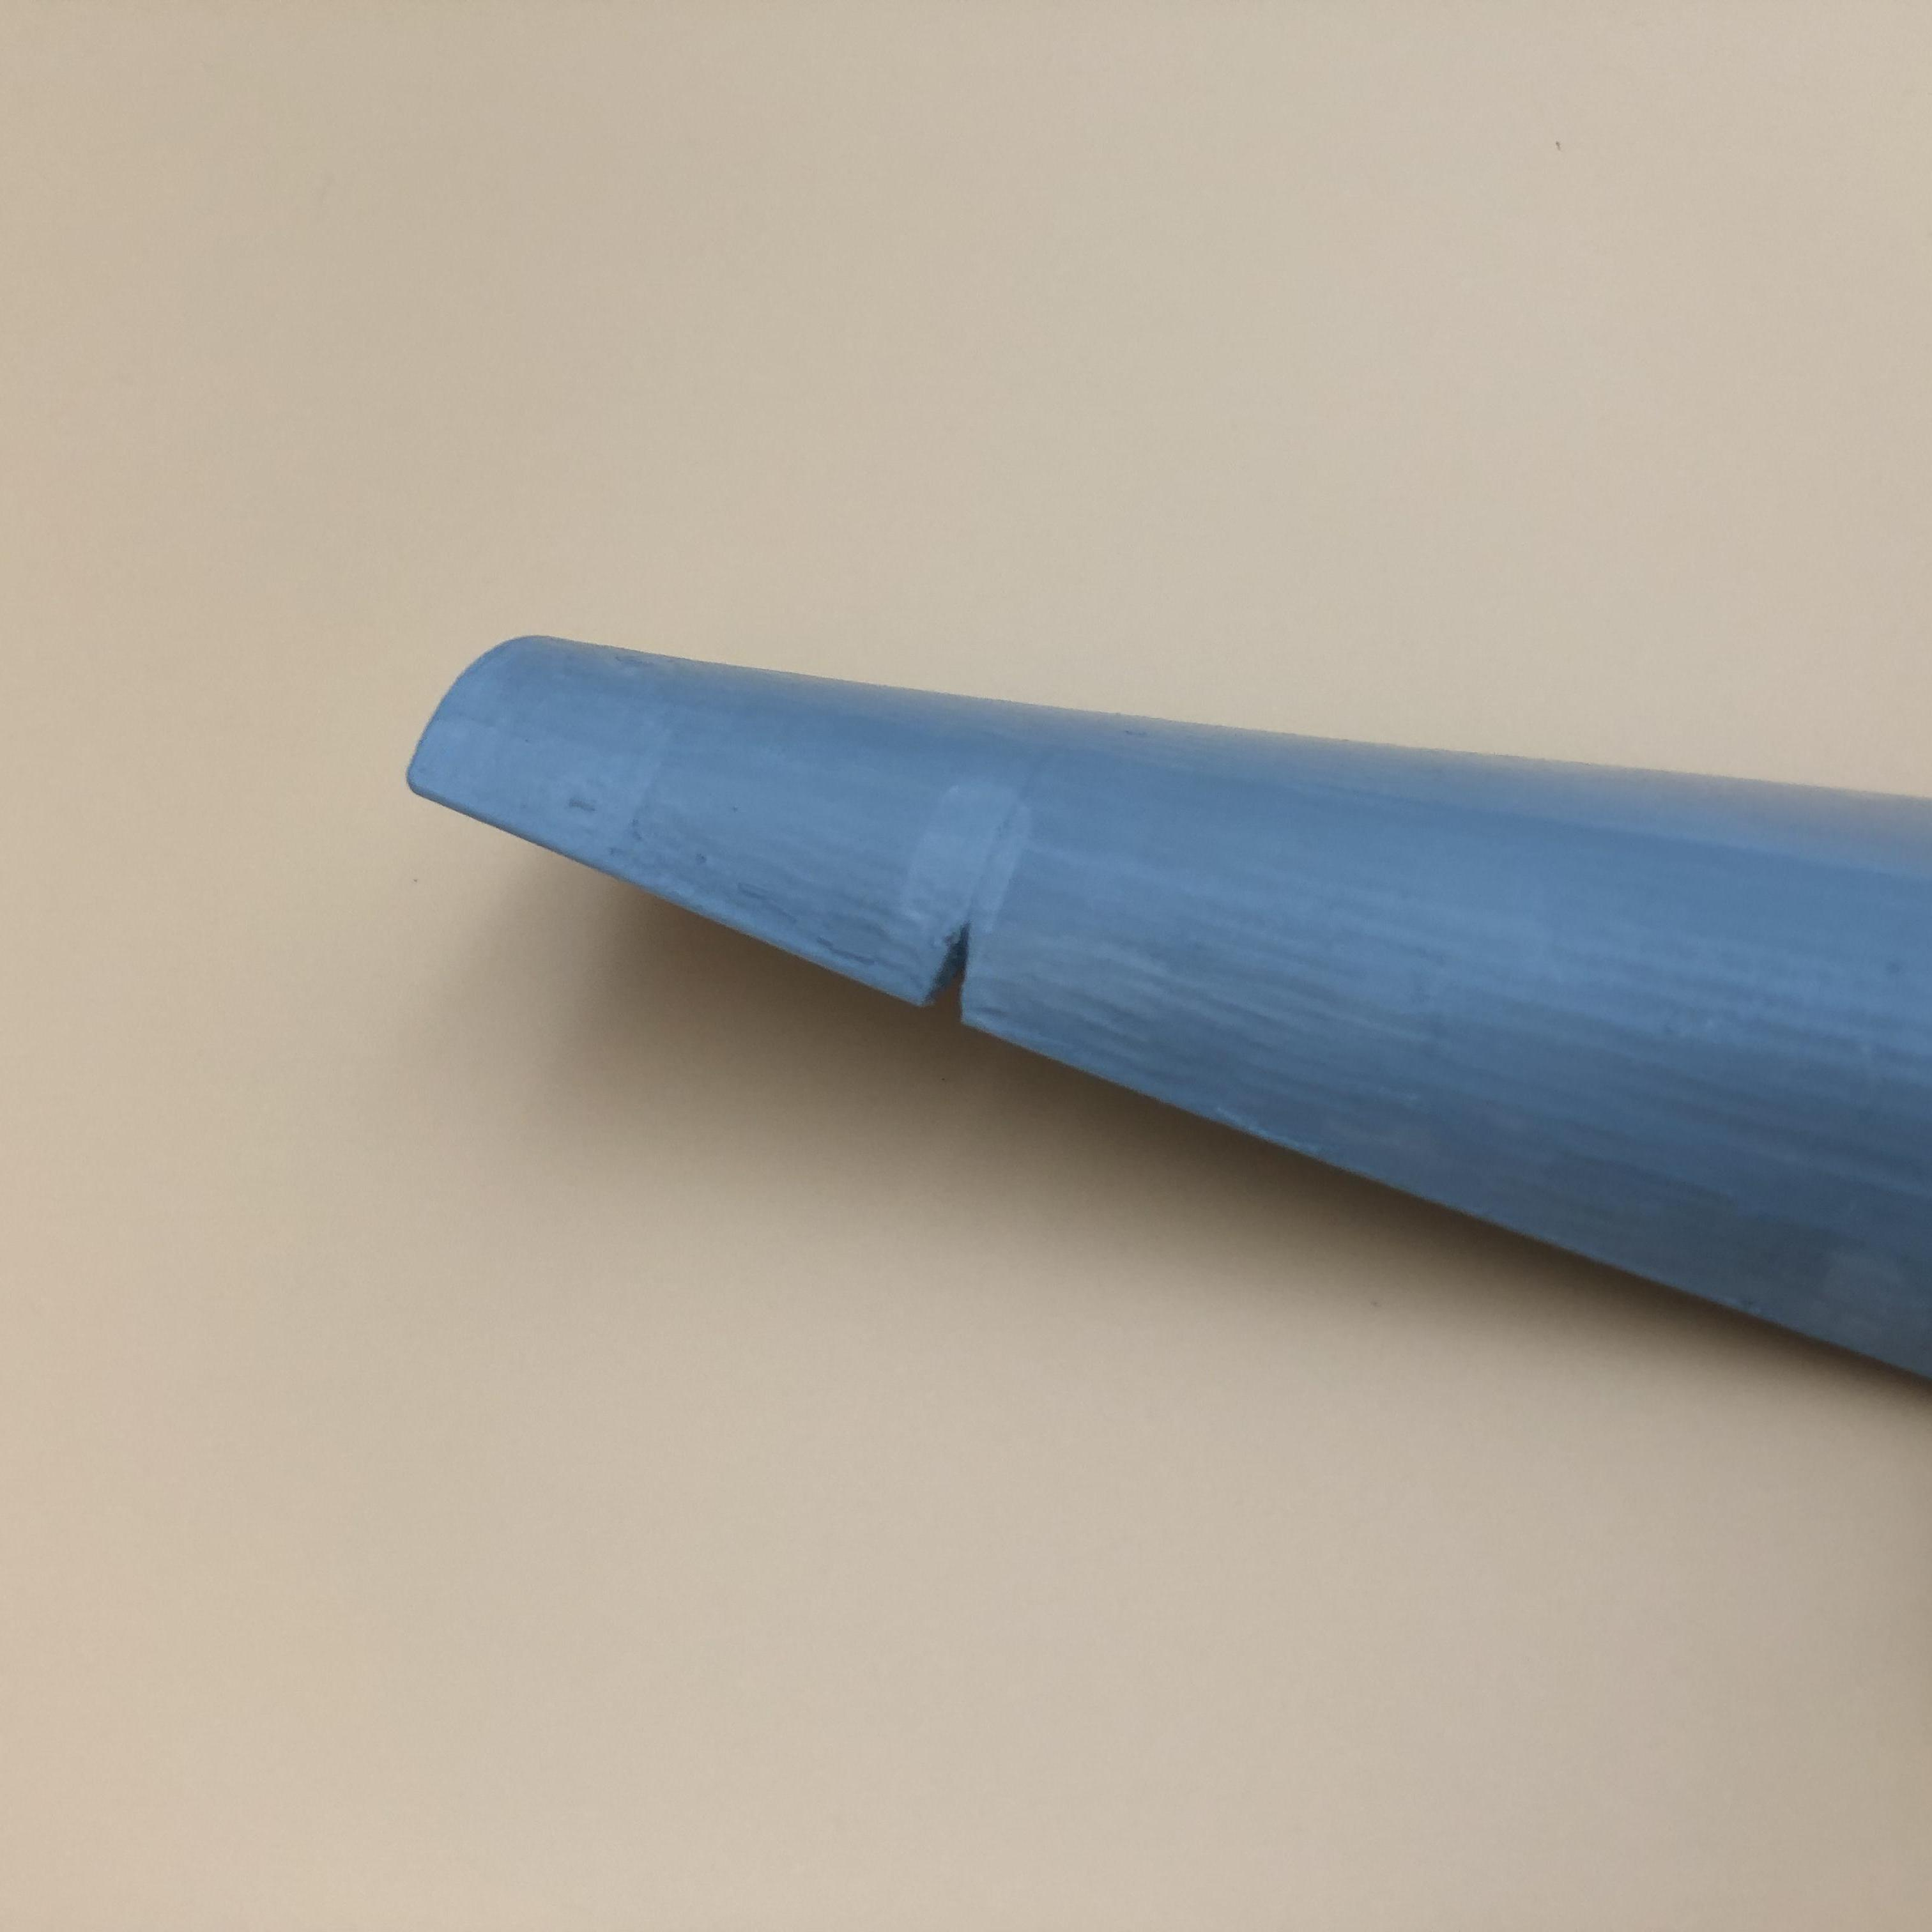groove: (922, 927, 993, 1012)
